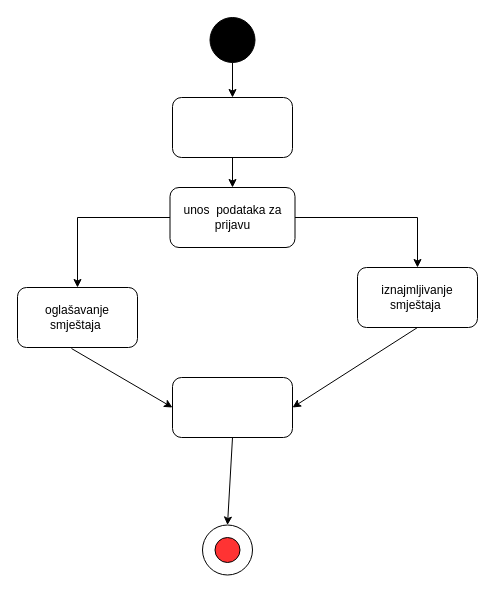
This 495x593 diagram has some shape labels left out. The box of each missing label's shape, as (x1, y1, x2, y2) in pixels:
odjava: (172, 376, 292, 438)
unos podataka za registraciju: (172, 96, 292, 158)
